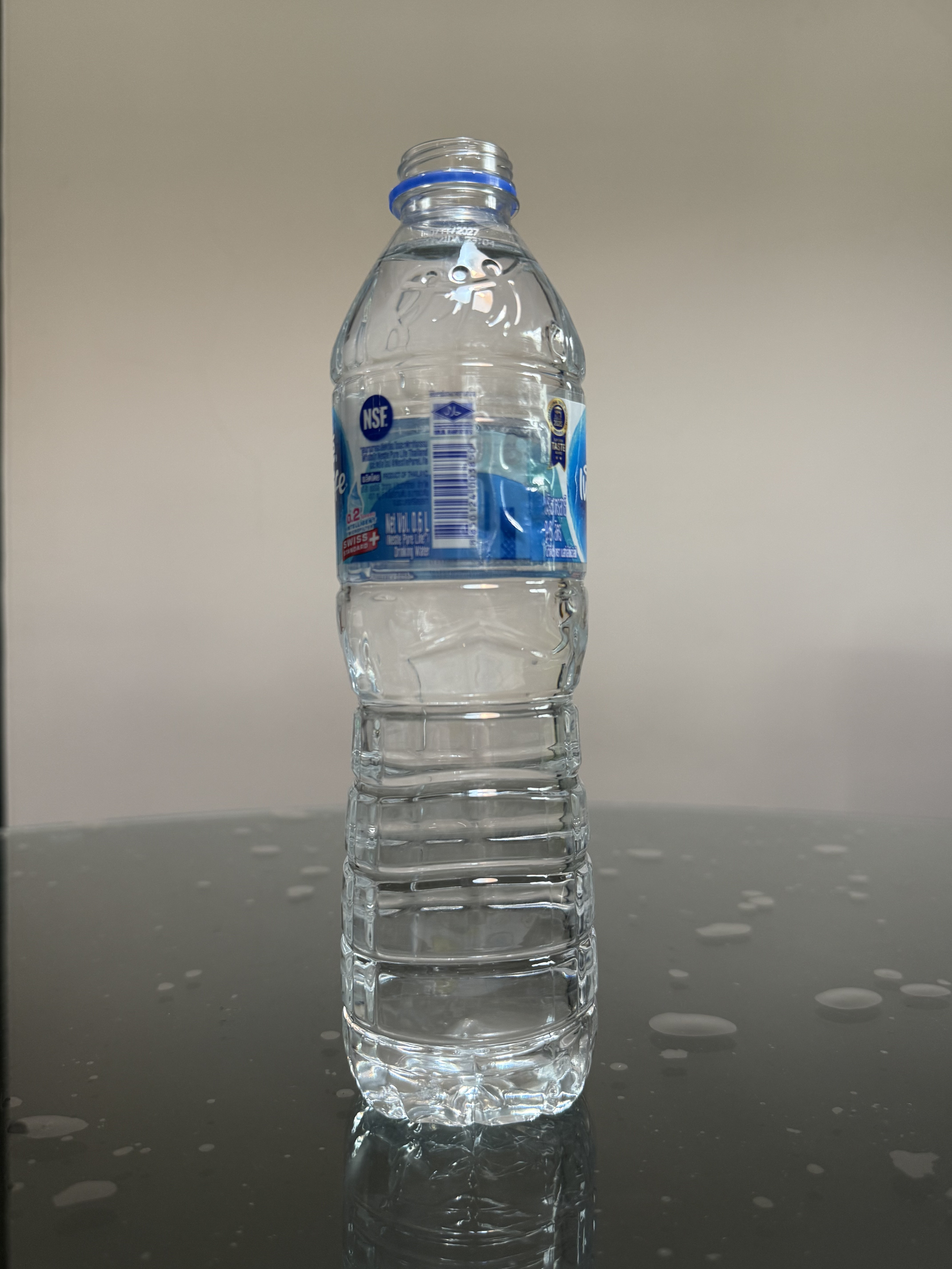no_cap: (384, 133, 523, 227)
